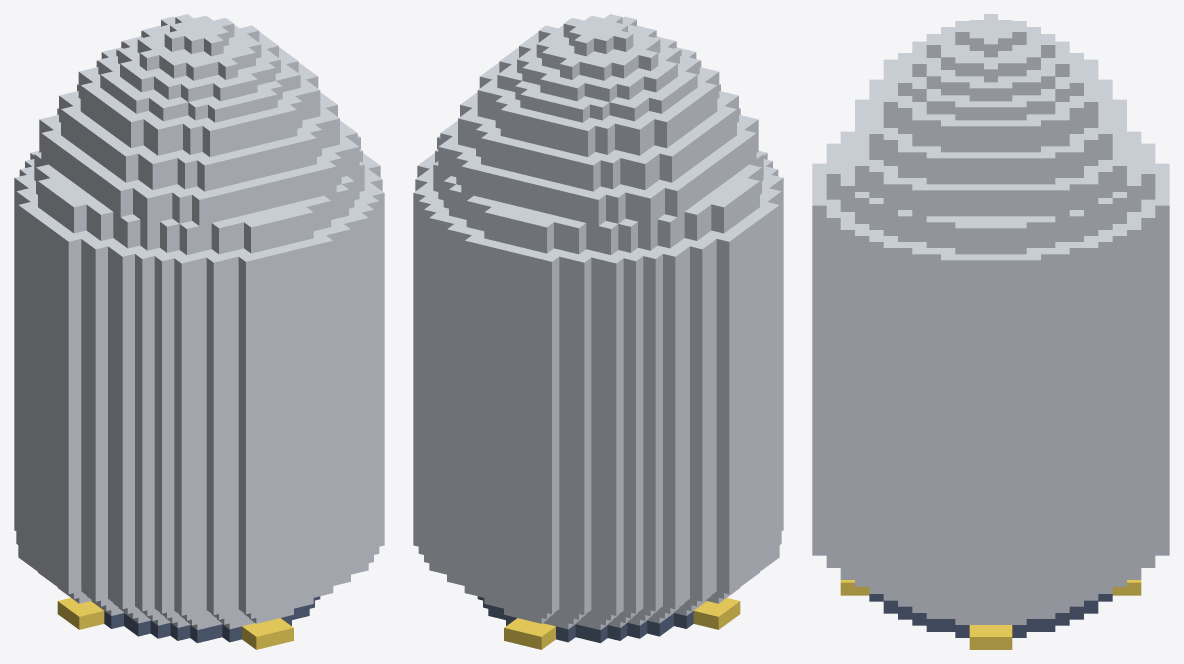
File: pelicano_fairing_close.obj
3 renders of one model, left to right at view 1: azimuth 30°, elevation 25°; view 2: azimuth 150°, elevation 25°; view 3: azimuth 270°, elevation 25°, orthographic.
Bounding box in the file's own units: 2.5 × 4.4 × 2.5.
1 material, 1 textured.
